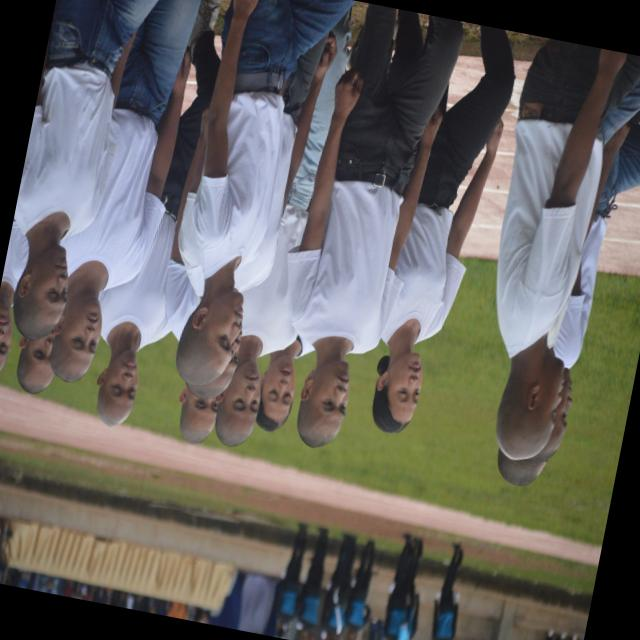person: (289, 5, 463, 446), (177, 0, 352, 384), (497, 39, 639, 458), (215, 11, 351, 446), (373, 26, 515, 432), (51, 0, 200, 381), (97, 0, 220, 425), (14, 0, 157, 338), (535, 124, 639, 460), (235, 32, 336, 292), (257, 335, 314, 431), (322, 534, 356, 639), (276, 523, 307, 638), (384, 533, 417, 639), (297, 527, 328, 639), (432, 543, 463, 639), (346, 540, 375, 639), (17, 331, 54, 393), (0, 245, 17, 372), (546, 629, 554, 639), (0, 527, 1, 532)
